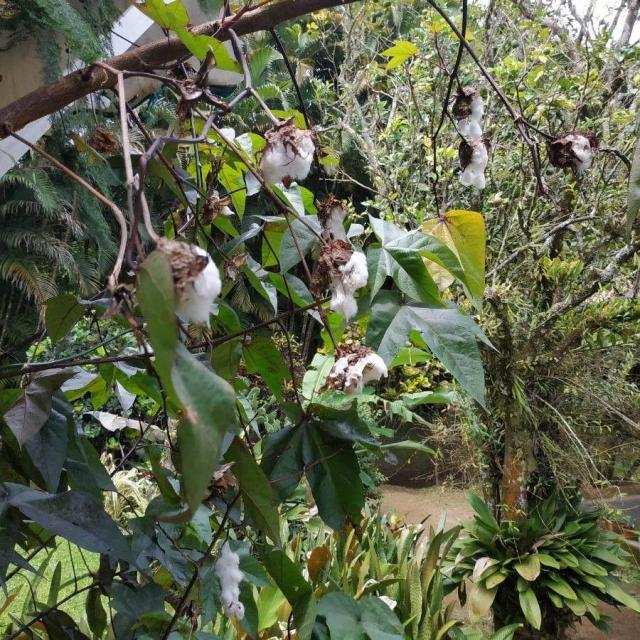Late_blight: (148, 231, 230, 331), (306, 234, 379, 326), (446, 81, 495, 202), (255, 114, 323, 189), (211, 537, 253, 626), (543, 125, 606, 181), (321, 339, 385, 391), (315, 190, 355, 239)
